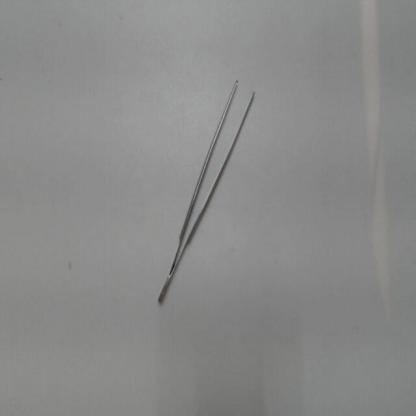Gillies Toothed Dissector: (154, 74, 266, 313)
